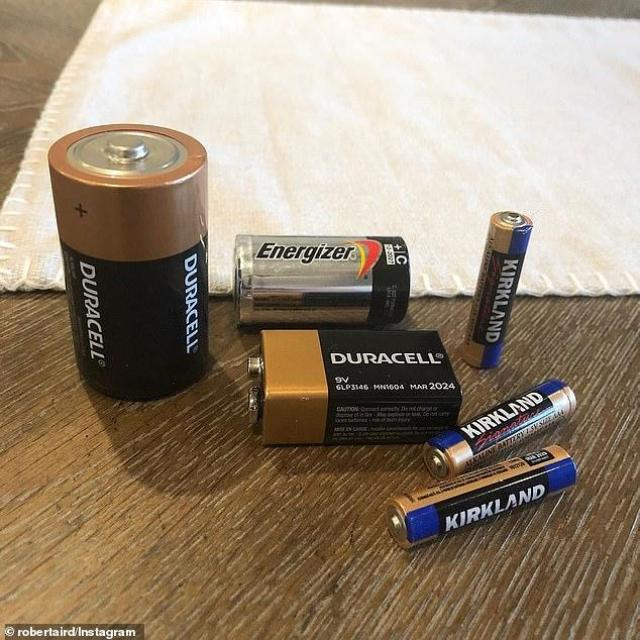battery: (47, 120, 210, 402), (242, 329, 465, 447), (384, 443, 580, 551), (233, 233, 412, 331), (421, 377, 581, 484), (459, 210, 534, 370)
